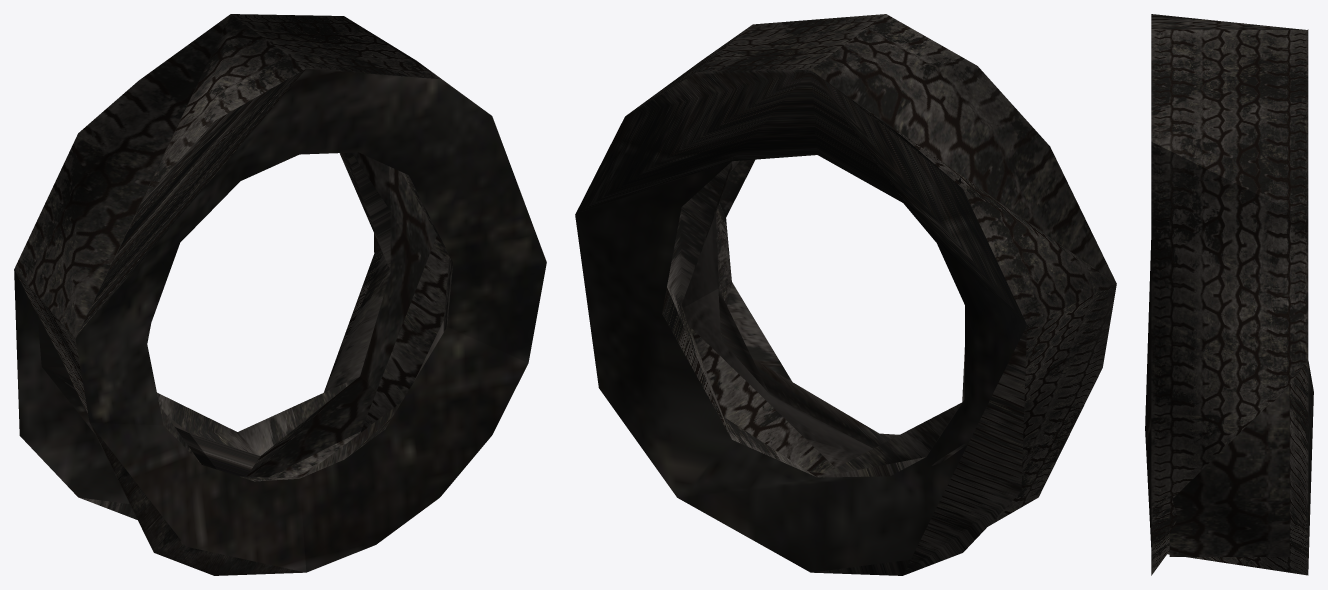
The model's file is luntai.fbx.
The picture shows the model from 3 angles, left to right: view 1: azimuth 30°, elevation 25°; view 2: azimuth 150°, elevation 25°; view 3: azimuth 270°, elevation 25°; orthographic projection. The views are drawn at different scales.
Parts seen in each view (by area): view 1: old_tyre; view 2: old_tyre; view 3: old_tyre.
Part boxes in pixels (x1,y1,x2,y2): old_tyre: (14, 14, 546, 575); old_tyre: (575, 14, 1116, 575); old_tyre: (1145, 14, 1313, 575).
Bounding box in the file's own units: 26.36 × 26.93 × 7.89.
